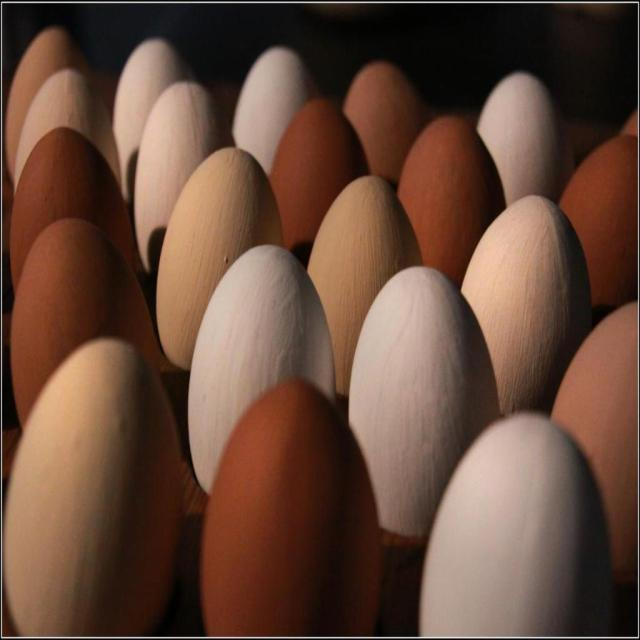Egg: (0, 130, 640, 638)
